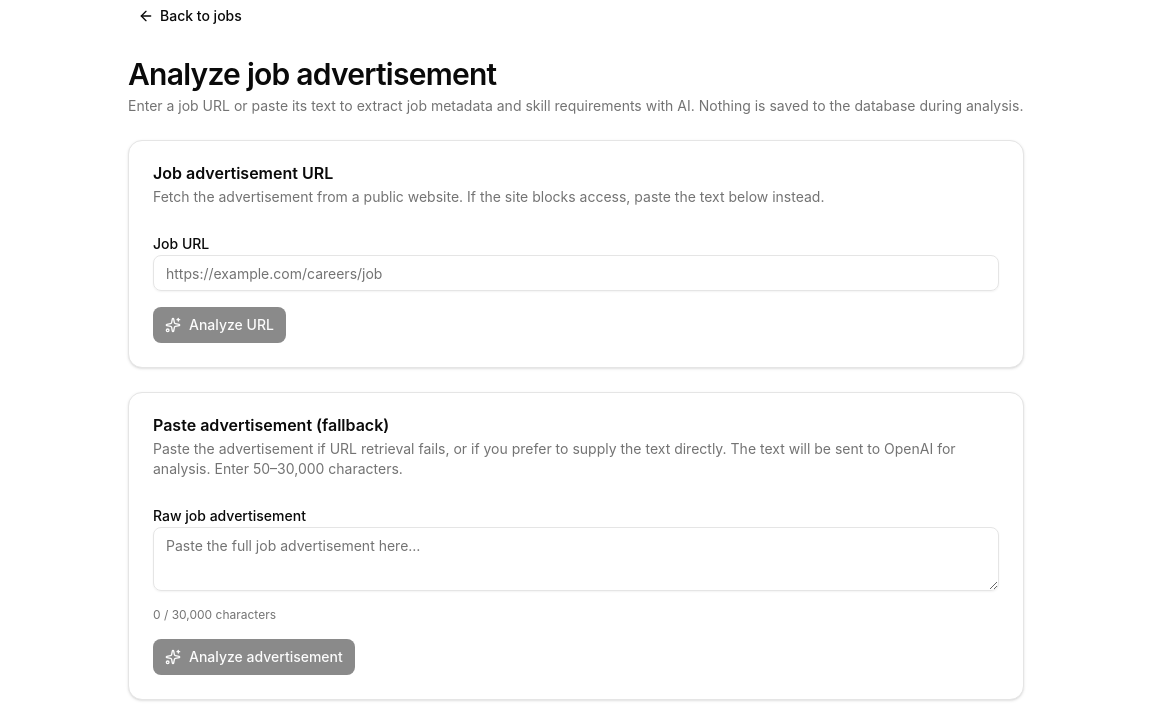
it: AnalyzeJobView (LinkedIn manual import) › shows the manual job description link for https://www.linkedin.com/jobs/view/1234567890/ without fetching LinkedIn
In the field with id "job-url": point(576, 273) [153,255,999,291], type "https://www.linkedin.com/jobs/view/1234567890/"
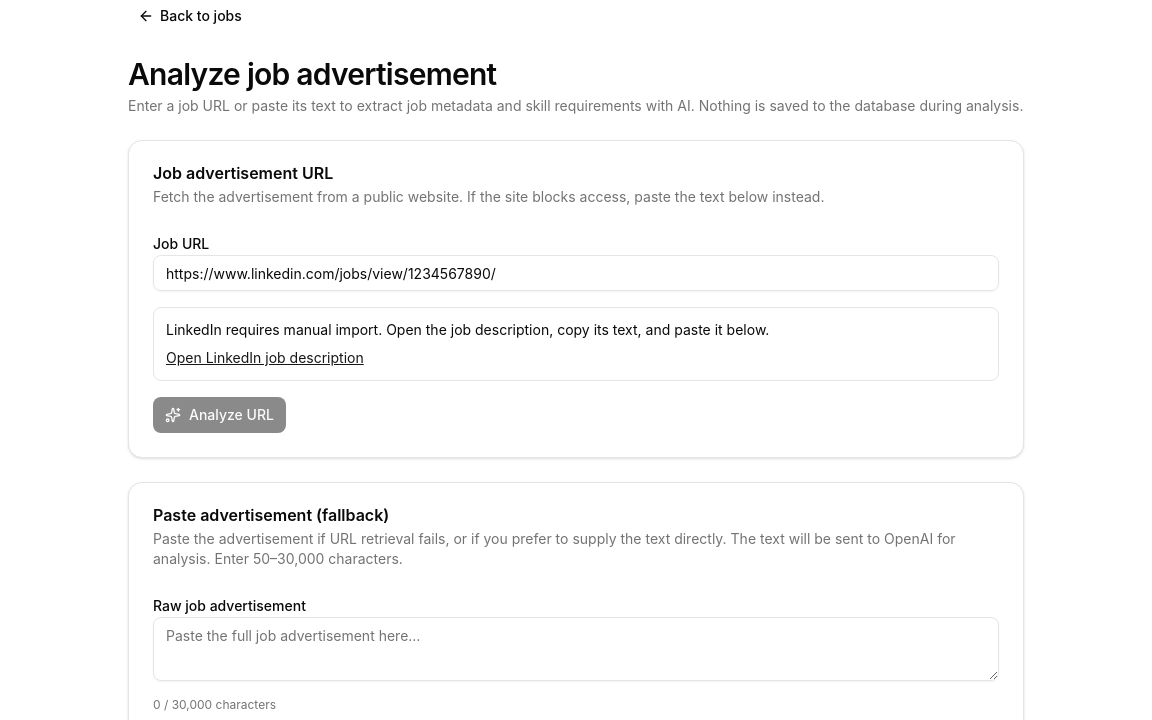
Expected: the button "Analyze URL" is disabled, [153,397,286,433]
Result: the text "LinkedIn requires manual import" is shown at [166,321,769,338]
